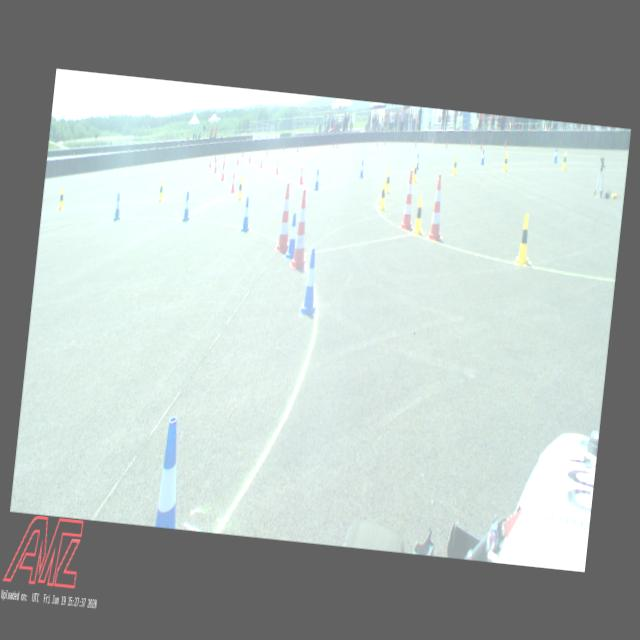blue_cone: (154, 416, 187, 528), (299, 248, 322, 316), (285, 212, 298, 258), (240, 197, 252, 232), (182, 191, 192, 222), (112, 192, 122, 220), (314, 168, 320, 190), (358, 159, 364, 178), (414, 153, 420, 170), (552, 146, 558, 162), (480, 148, 486, 164)
large_orange_cone: (288, 190, 314, 270), (274, 182, 296, 255), (426, 174, 448, 242), (399, 170, 418, 230)
orange_cone: (230, 172, 237, 192), (298, 164, 304, 183), (220, 164, 226, 180), (275, 158, 280, 174), (260, 154, 264, 168), (214, 159, 218, 172), (222, 154, 226, 166), (208, 156, 212, 167), (248, 152, 252, 163), (236, 154, 240, 164)
unknown_cone: (479, 140, 482, 150), (214, 152, 217, 162), (470, 138, 473, 146), (504, 138, 506, 148), (446, 139, 448, 149), (266, 146, 268, 156), (414, 138, 416, 147), (242, 148, 244, 157), (384, 138, 386, 146), (376, 139, 378, 147), (332, 140, 334, 148), (296, 144, 298, 152), (336, 142, 338, 149), (282, 144, 284, 151), (434, 138, 436, 144)
yellow_cone: (514, 213, 534, 265), (411, 194, 426, 234), (378, 180, 388, 210), (156, 178, 164, 202), (384, 169, 392, 193), (58, 186, 66, 210), (236, 176, 244, 200), (502, 153, 509, 171), (412, 162, 418, 182), (452, 156, 458, 176), (561, 151, 567, 169)
